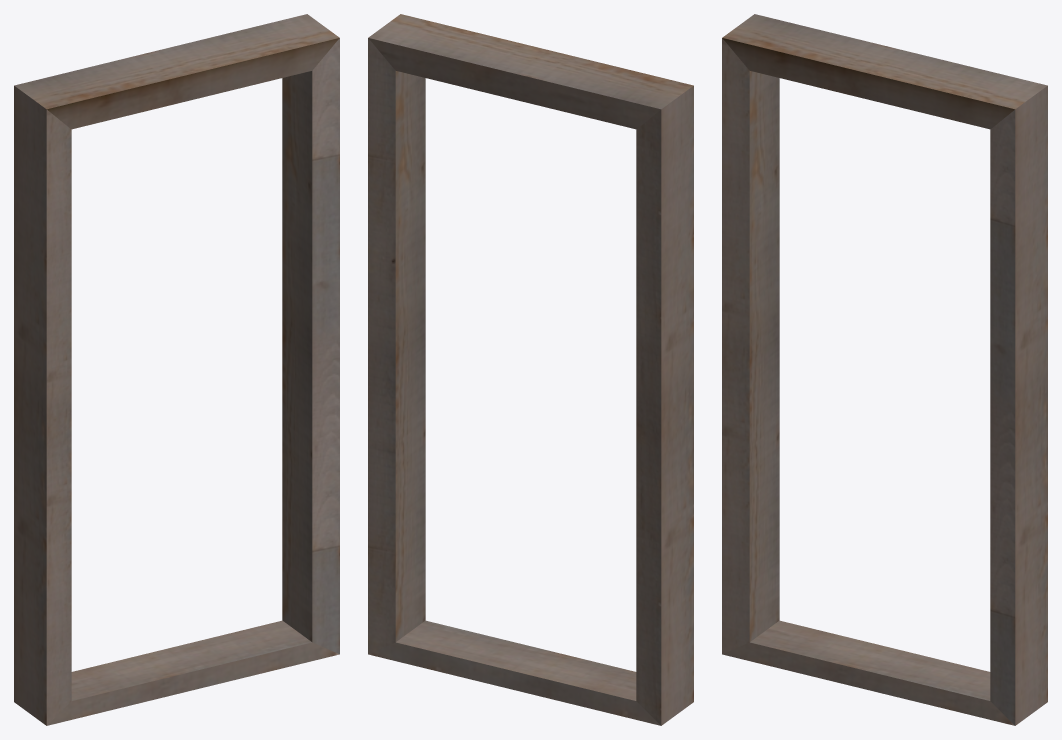
File: Doorframe.fbx
3 renders of one model, left to right at view 1: azimuth 30°, elevation 25°; view 2: azimuth 150°, elevation 25°; view 3: azimuth 330°, elevation 25°, orthographic.
Parts seen in each view (by area): view 1: DoorFrame; view 2: DoorFrame; view 3: DoorFrame.
Part boxes in pixels (x1,y1,x2,y2): DoorFrame: (14,14,339,725); DoorFrame: (368,14,693,725); DoorFrame: (722,14,1047,725).
Bounding box in the file's own units: 161 × 324 × 30.99.
1 material, 1 textured.
